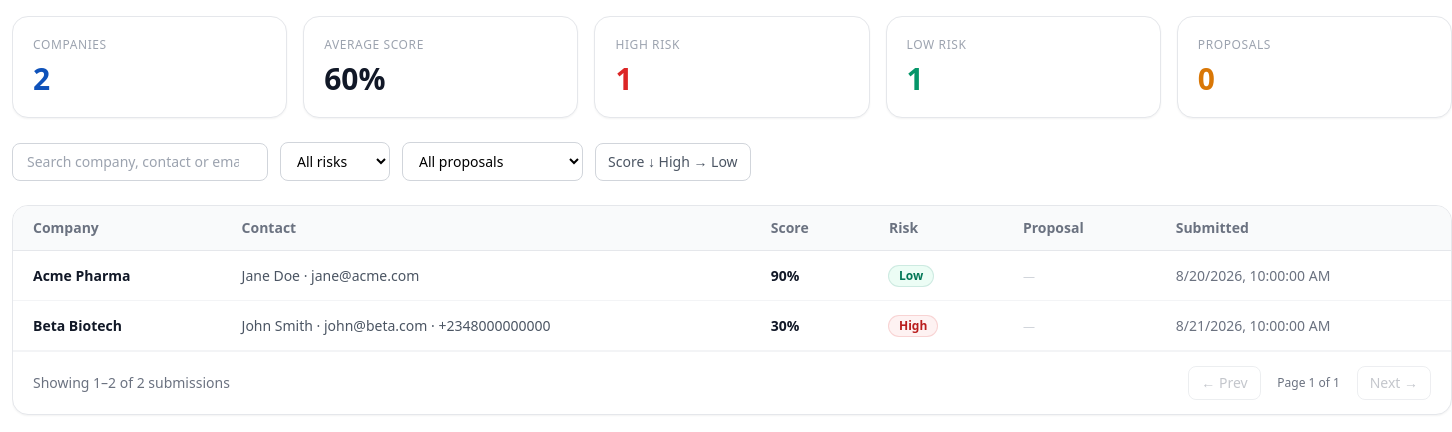
Scenario: DashboardTable › filters by risk level
Select "High" in the 1st dropdown named "Filter by risk" at (335, 162), box 280,142 -> 390,181
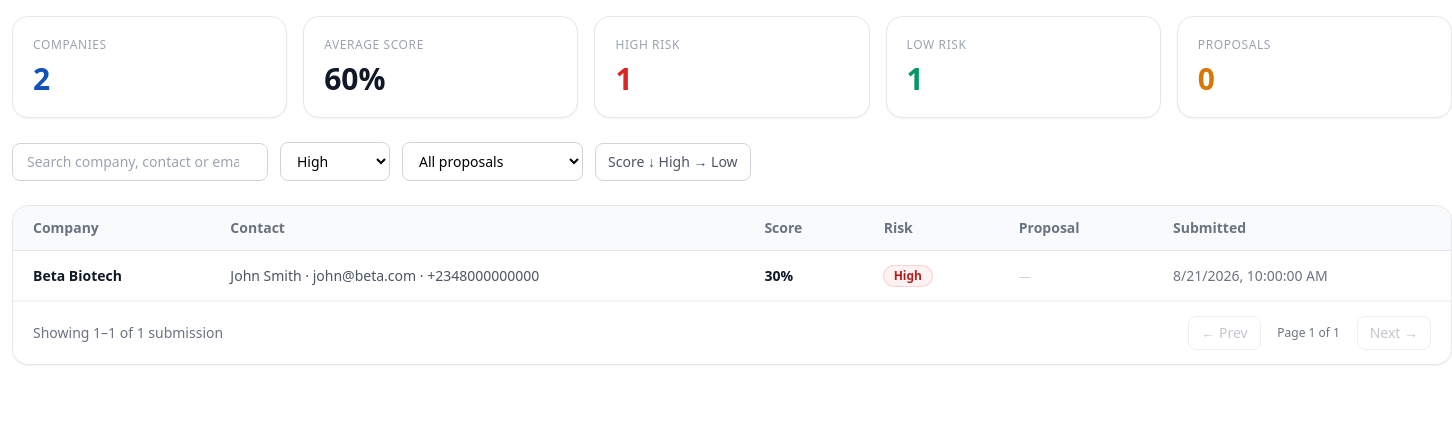
expect the text "Beta Biotech" is shown: met, box 13,250 -> 210,300
expect the text "Acme Pharma" is gone: met
